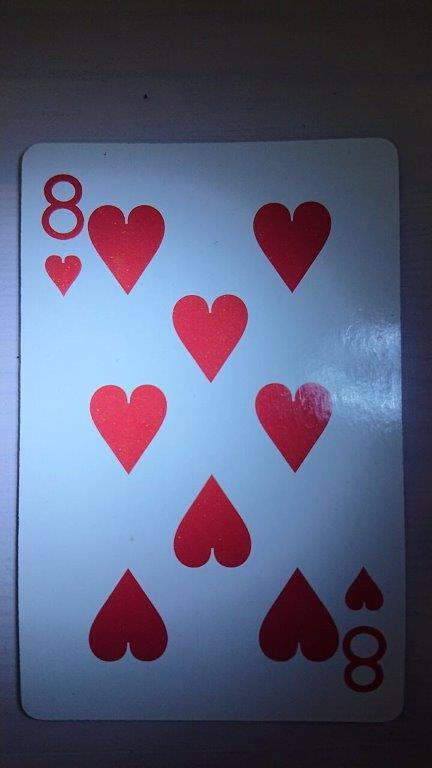8H: (14, 135, 407, 726)
